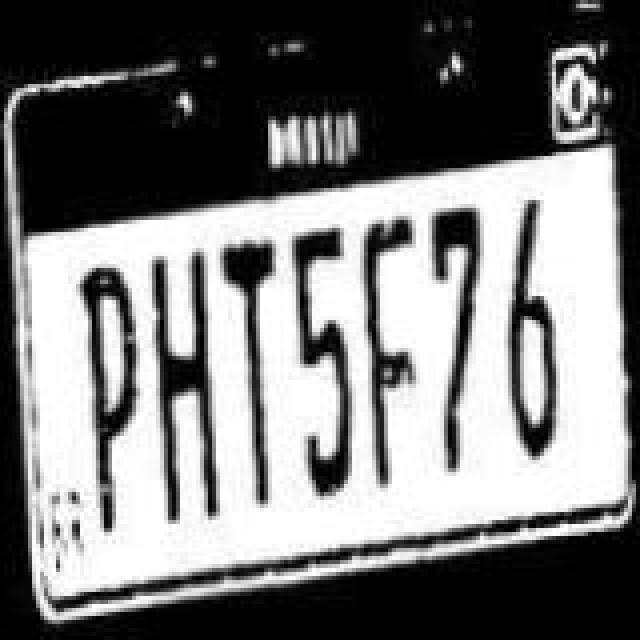5: (288, 224, 356, 524)
6: (498, 188, 570, 484)
7: (420, 206, 496, 498)
F: (352, 208, 420, 520)
H: (142, 238, 218, 538)
P: (76, 258, 140, 534)
T: (218, 236, 294, 532)
